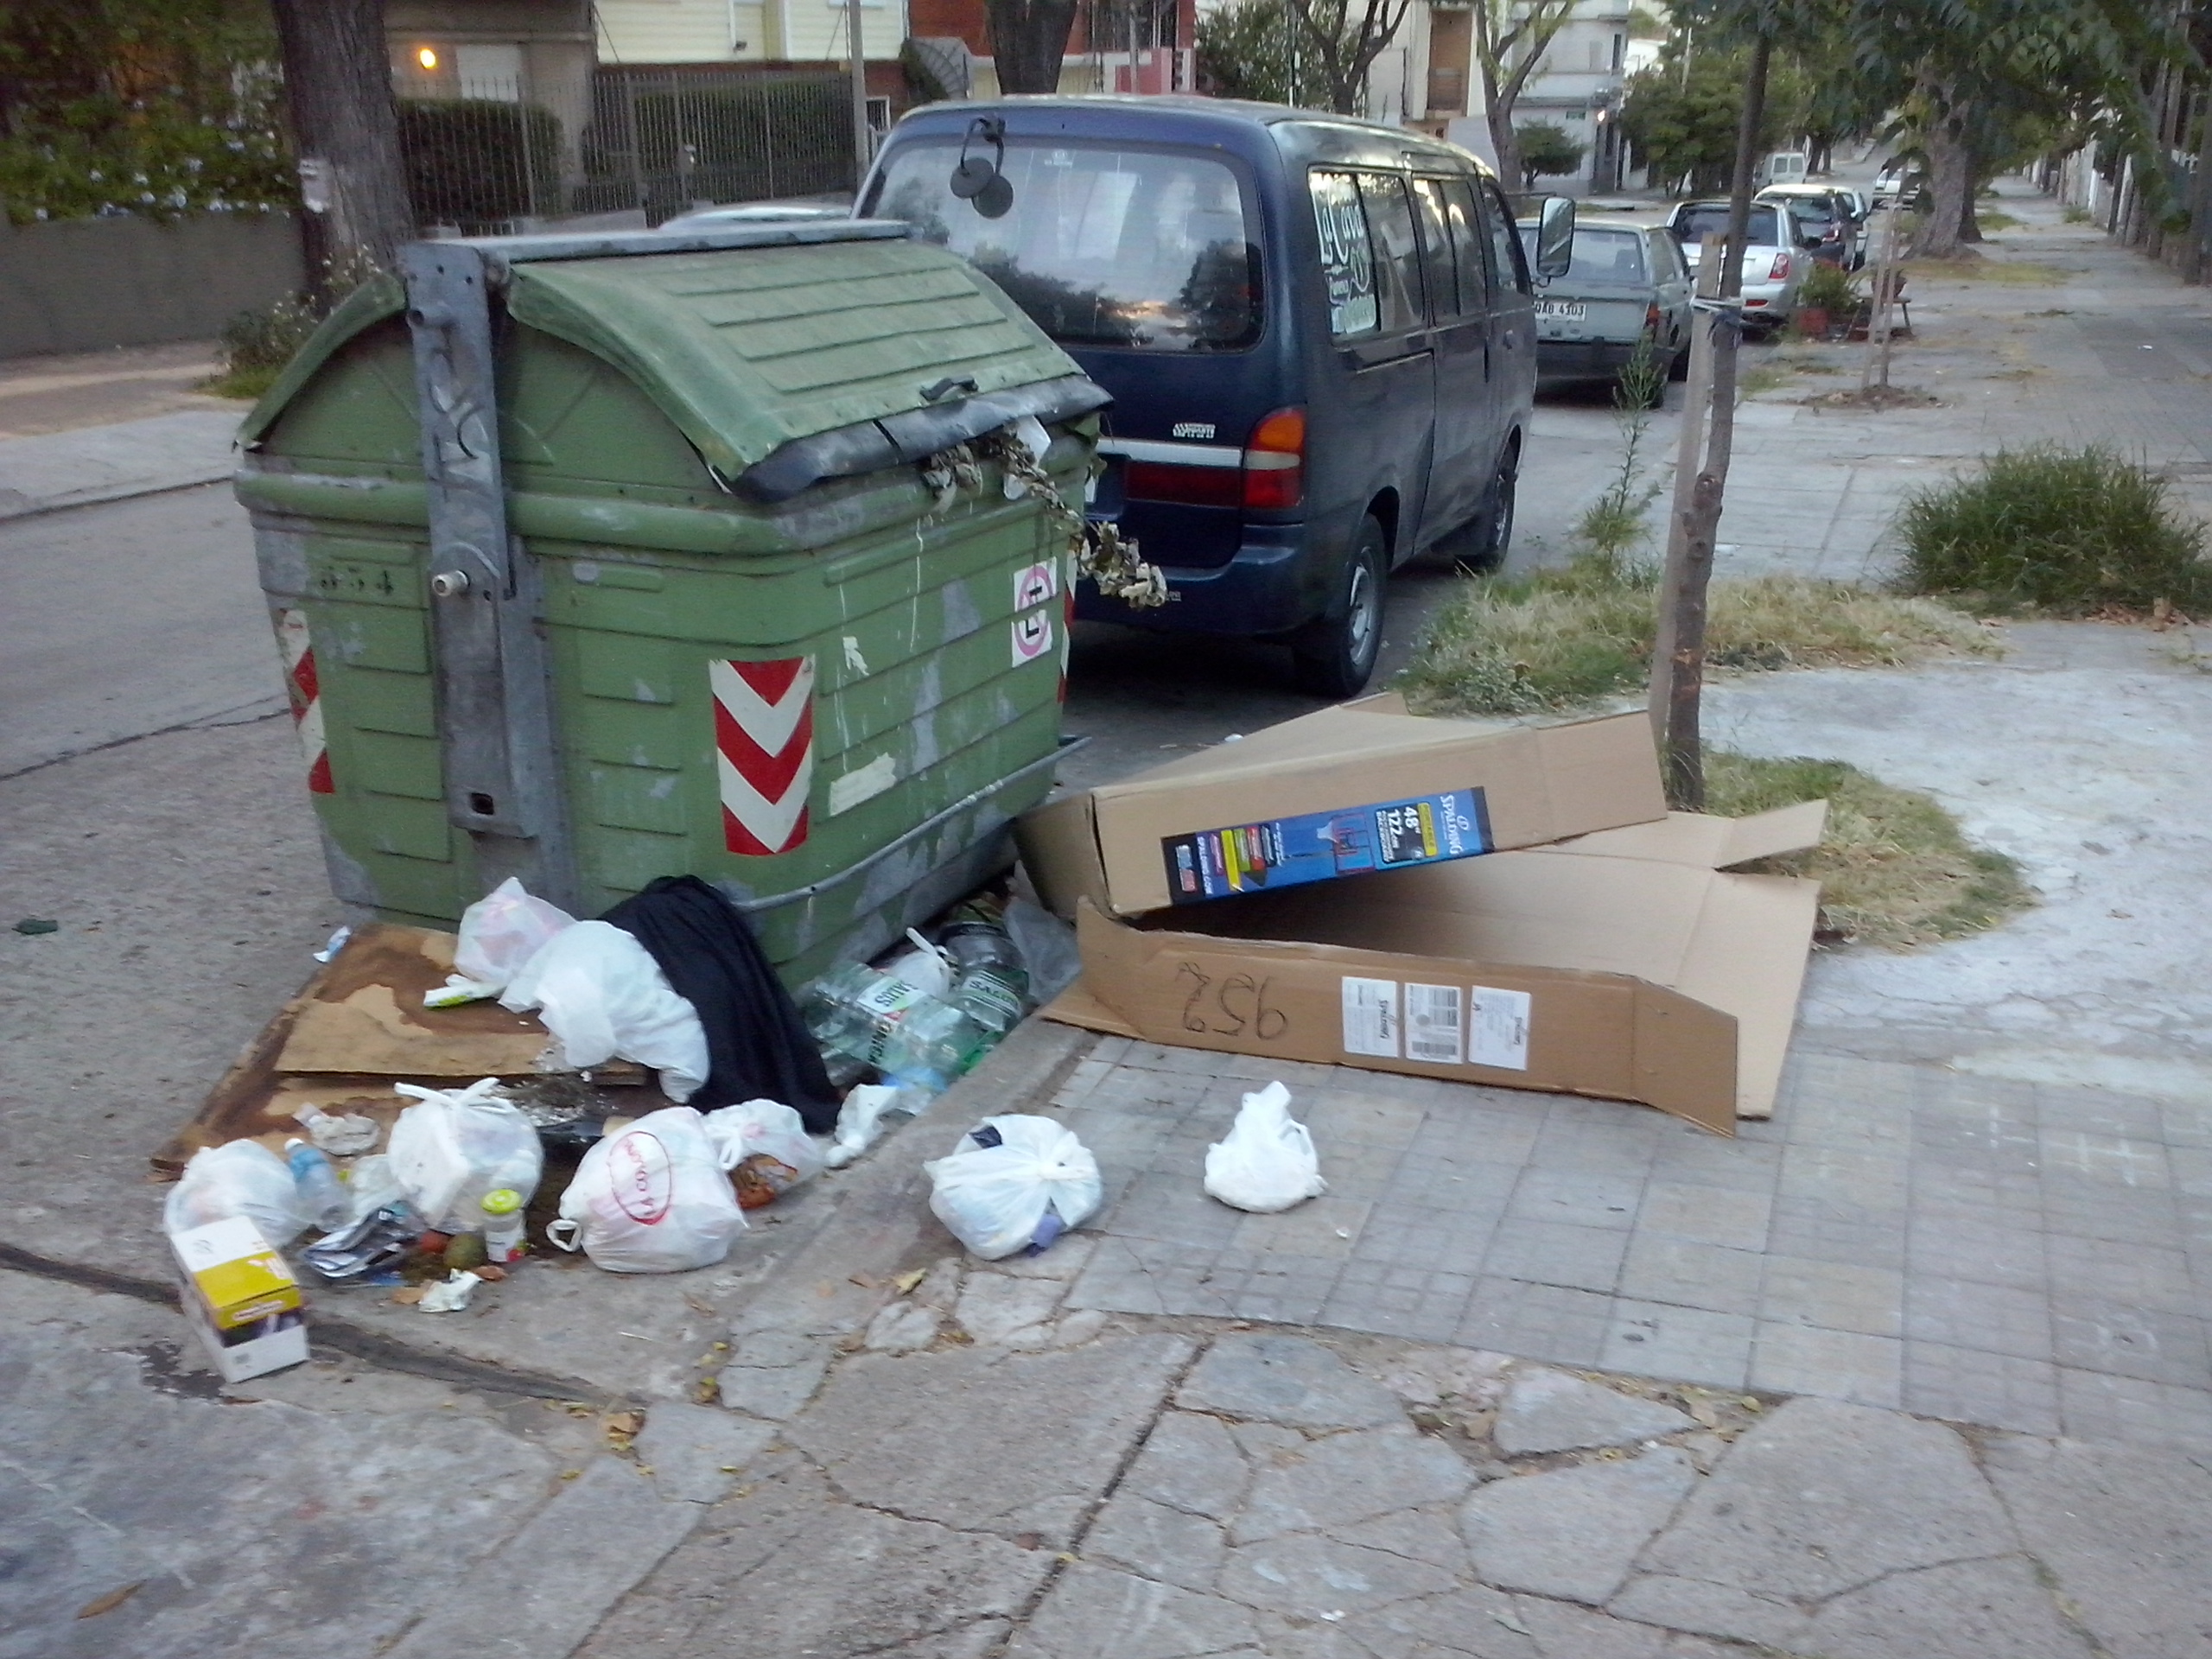container: (218, 204, 1118, 1000)
